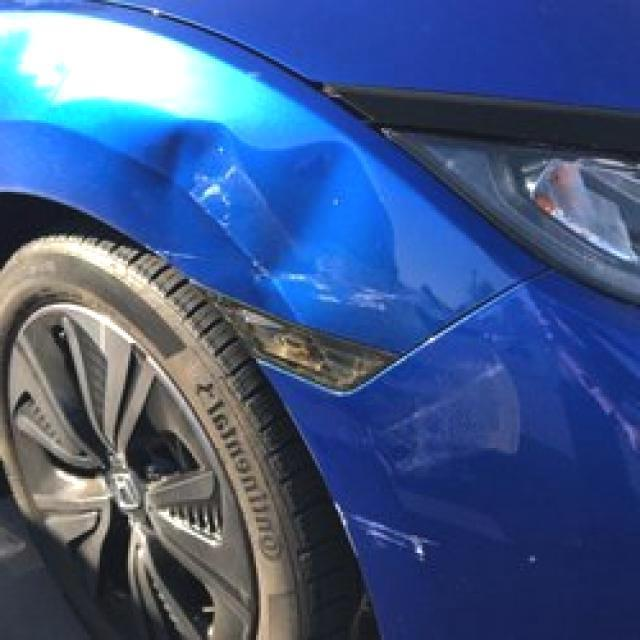minor: (337, 506, 438, 562)
moderate: (54, 93, 460, 358)
